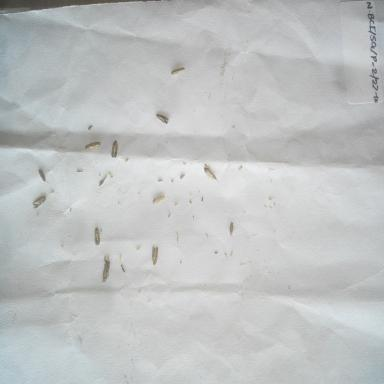pbw: (199, 162, 221, 184), (168, 62, 192, 82), (99, 254, 113, 284), (82, 139, 102, 156), (89, 224, 103, 247), (31, 194, 48, 212), (155, 108, 172, 125), (108, 136, 120, 160), (149, 193, 167, 206), (149, 244, 159, 267), (36, 167, 48, 186), (227, 220, 236, 239), (98, 172, 108, 188)
